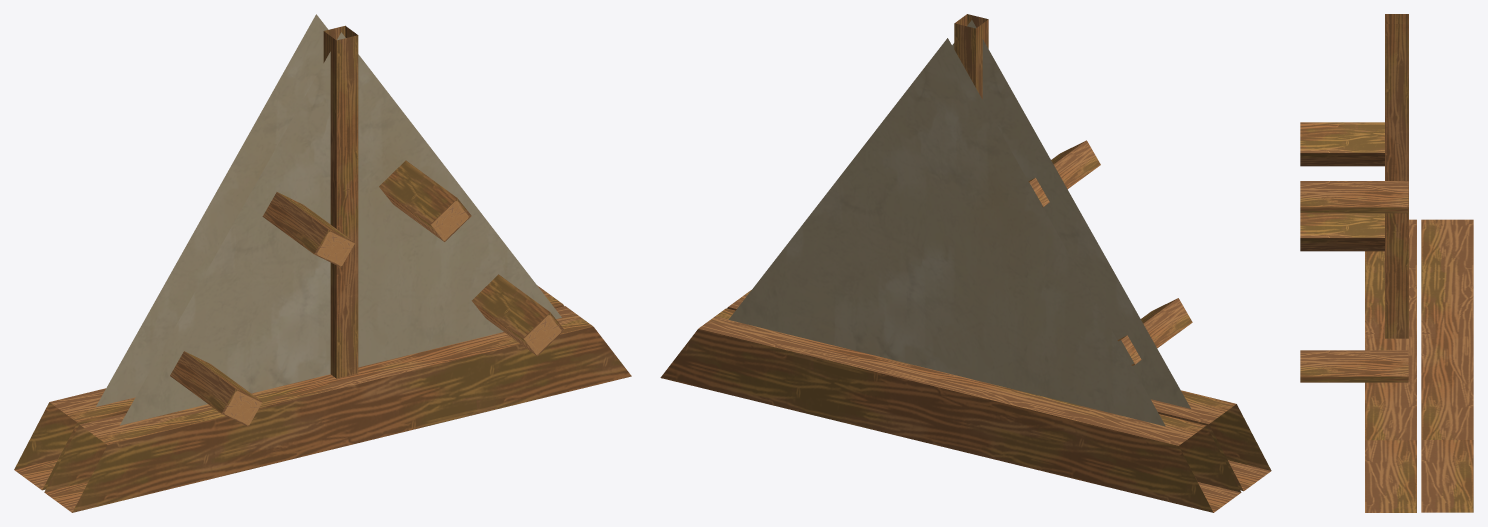
The model's file is Roof_Front_Brick2.gltf.
3 views of the same model, side by side, from view 1: azimuth 30°, elevation 25°; view 2: azimuth 150°, elevation 25°; view 3: azimuth 270°, elevation 25° (orthographic). The views are drawn at different scales.
Visible parts, largest first — view 1: Roof_Front_Brick2; view 2: Roof_Front_Brick2; view 3: Roof_Front_Brick2.
Boxes of the visible parts, x1,y1,x2,y2 form: Roof_Front_Brick2: [14, 14, 631, 512]; Roof_Front_Brick2: [660, 14, 1271, 512]; Roof_Front_Brick2: [1300, 14, 1473, 512].
Bounding box in the file's own units: 2.61 × 1.77 × 0.7513.
2 materials, 2 textured.
